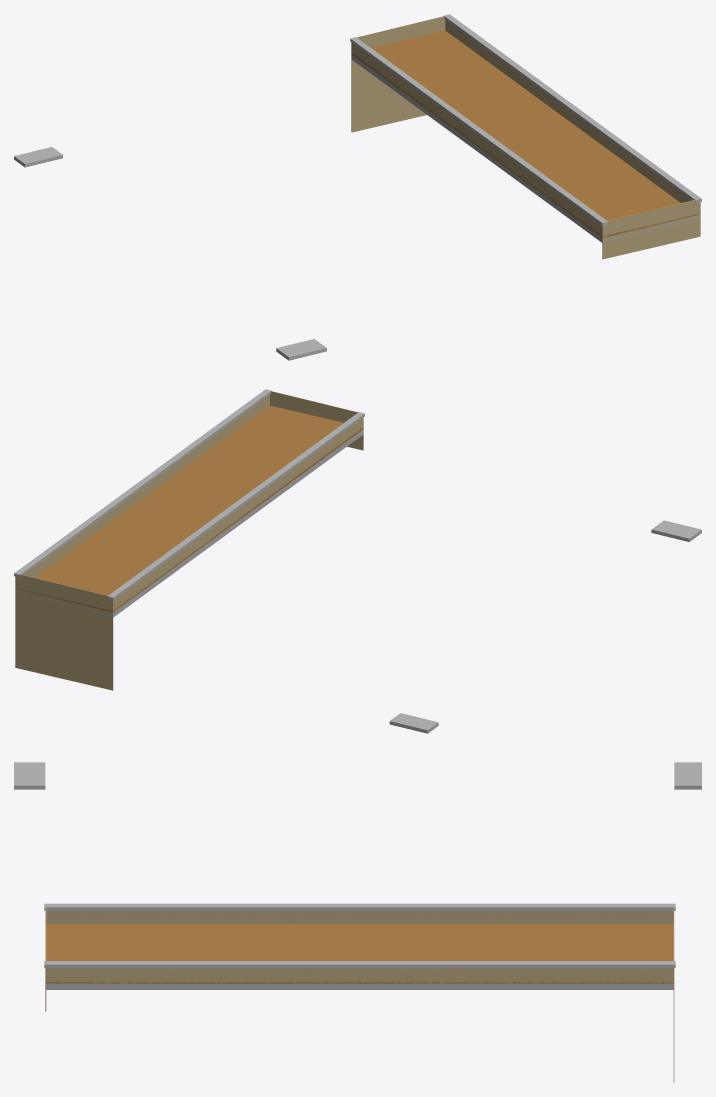
The model's file is roof-bundle-covered-souk.glb.
3 renders of one model, top to bottom at view 1: azimuth 30°, elevation 25°; view 2: azimuth 150°, elevation 25°; view 3: azimuth 270°, elevation 25°, orthographic. The views are drawn at different scales.
Parts seen in each view (by area): view 1: bz06_faded_ochre-receive, bz06_pale_lime-cast, ph_bz04_stone_trim_sandstone-cast; view 2: bz06_faded_ochre-receive, bz06_pale_lime-cast, ph_bz04_stone_trim_sandstone-cast; view 3: bz06_faded_ochre-receive, bz06_pale_lime-cast, ph_bz04_stone_trim_sandstone-cast.
Boxes of the visible parts, x1,y1,x2,y2 form: bz06_faded_ochre-receive: (351,30,700,237); bz06_pale_lime-cast: (351,15,700,259); ph_bz04_stone_trim_sandstone-cast: (14,14,701,360); bz06_faded_ochre-receive: (15,405,363,612); bz06_pale_lime-cast: (15,390,363,690); ph_bz04_stone_trim_sandstone-cast: (14,389,701,733); bz06_faded_ochre-receive: (45,924,674,983); bz06_pale_lime-cast: (45,904,674,1082); ph_bz04_stone_trim_sandstone-cast: (14,762,701,989).
Bounding box in the file's own units: 15.63 × 3.33 × 17.5.
Materials: 4 (3 with a texture image).
